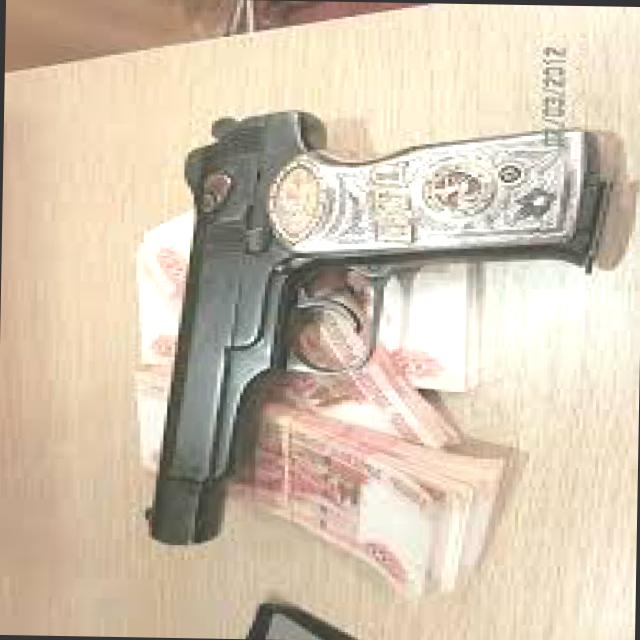handgun: (121, 106, 614, 558)
